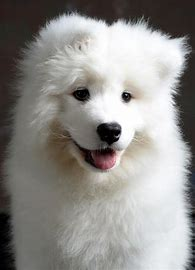dog: (8, 10, 192, 267)
